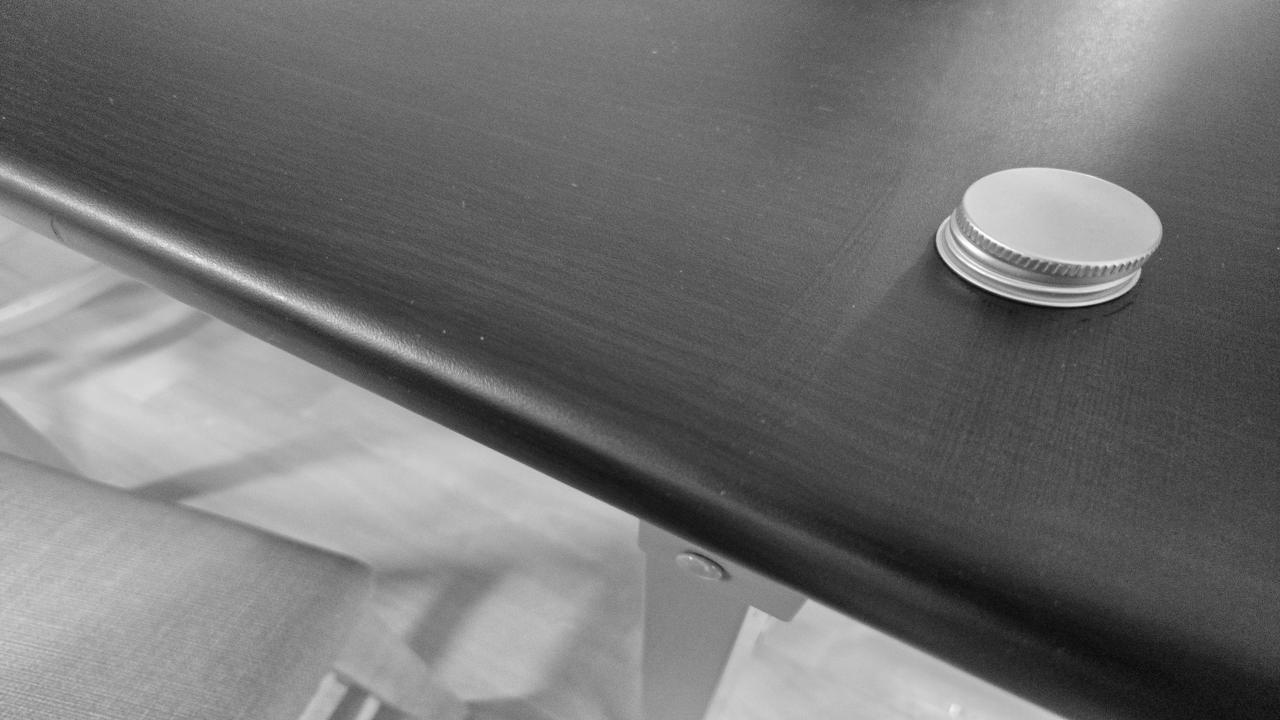bottle_cap: (941, 167, 1158, 305)
